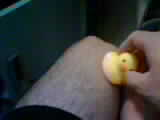duck: (90, 43, 152, 85)
